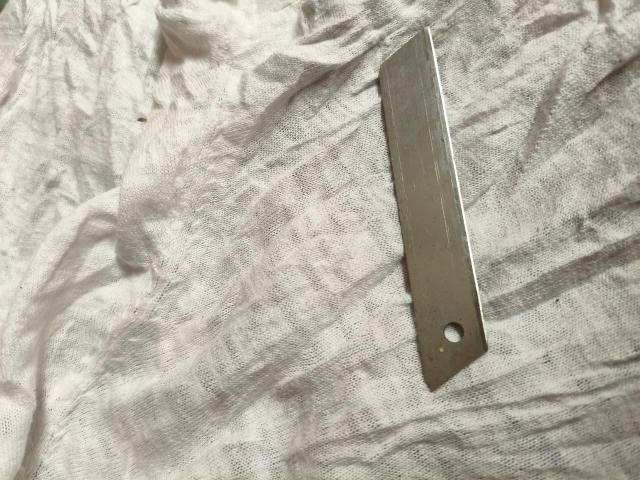Metal: (376, 29, 493, 388)
